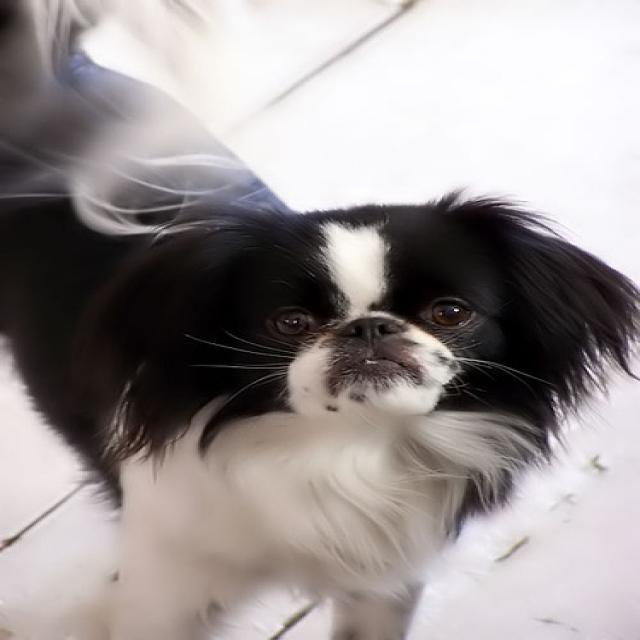dog-japanese_chin: (2, 1, 637, 637)
